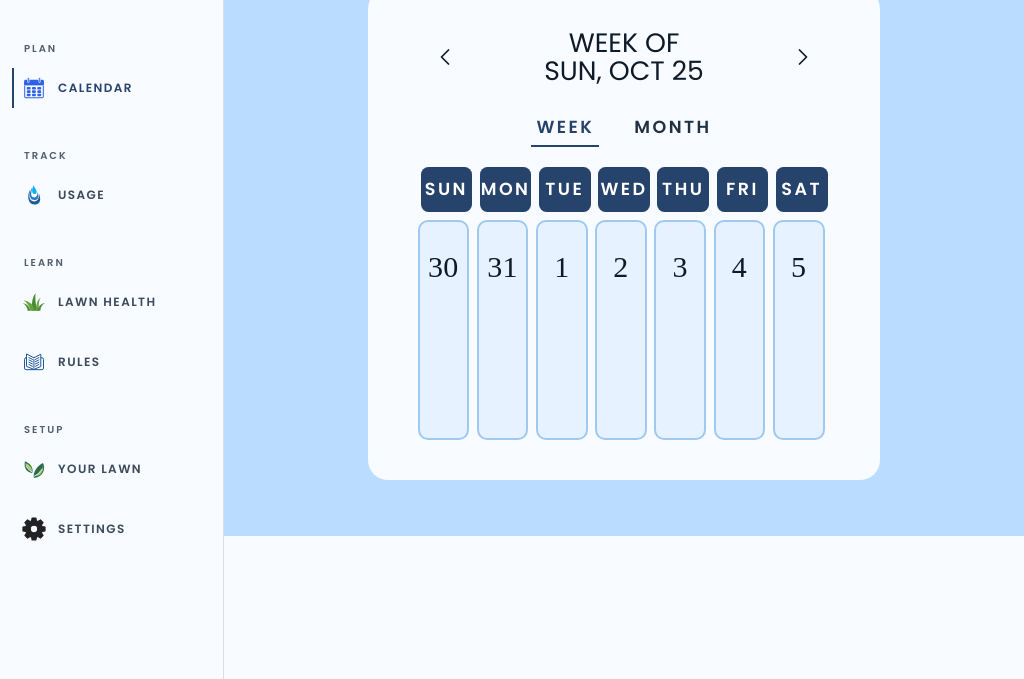
Scenario: app UI › calendar flicks between weeks and every day can be clicked for details
This screenshot has width=1024, height=679.
(page scrolled)
Click the button "30".
click(443, 330)  # box x1=418 y1=220 x2=469 y2=440
(page scrolled)
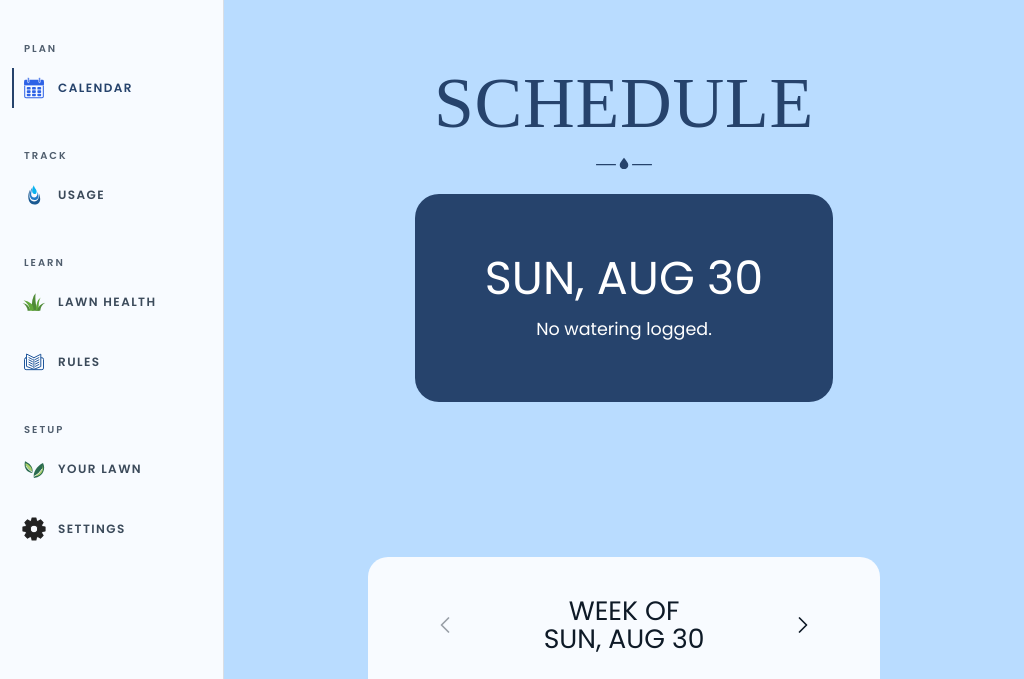
Expected: the text "No watering logged." is shown, x1=536 y1=317 x2=712 y2=341
